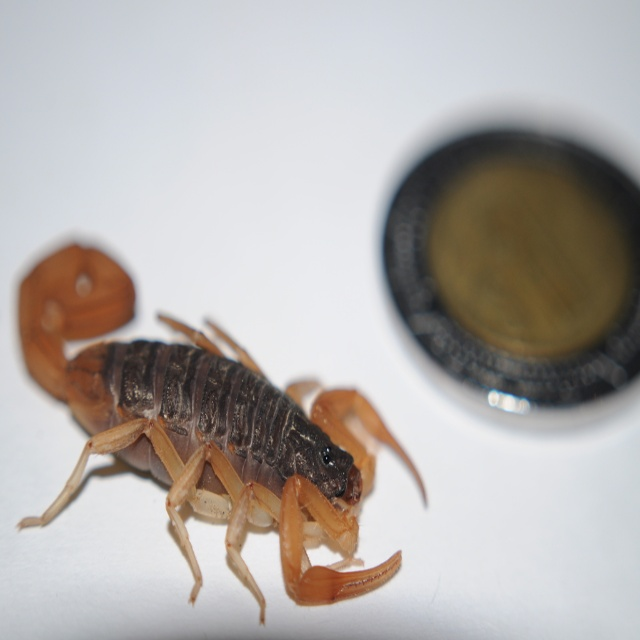Scorpion: (14, 237, 430, 629)
